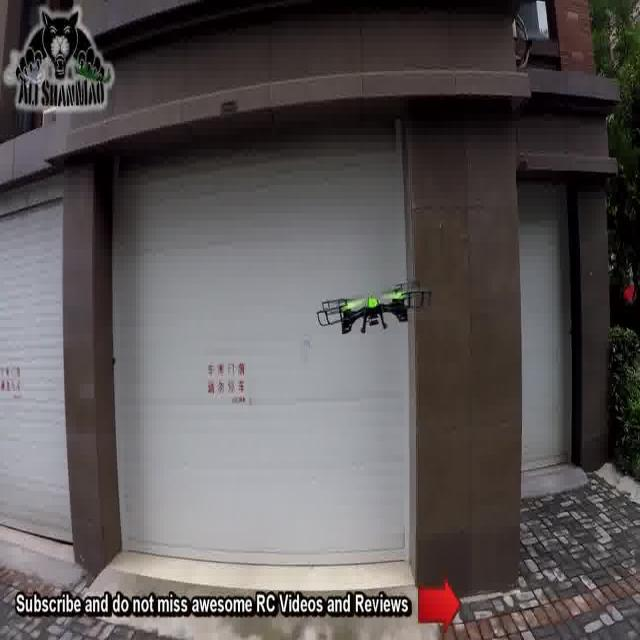drone: (312, 279, 432, 340)
